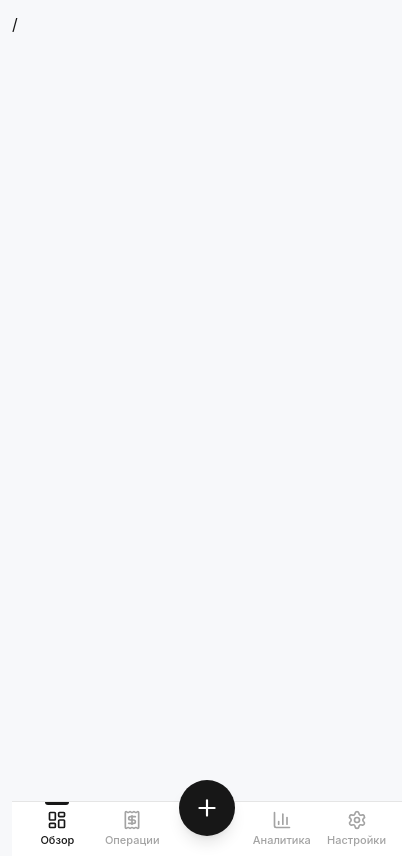
Test: tab switches › lights the touched tab up on pointer-down, before the page has changed
Press the mouse on the link "Настройки" at (357, 828), box [327,810,386,846]
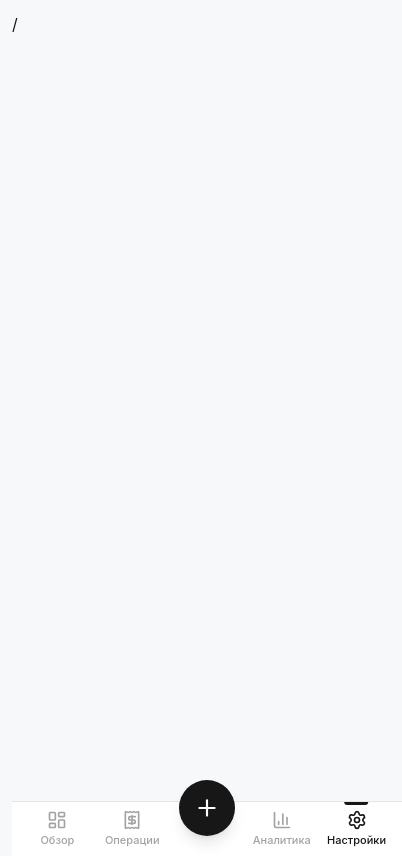
Click the link "Настройки" at (357, 828), box [327,810,386,846]
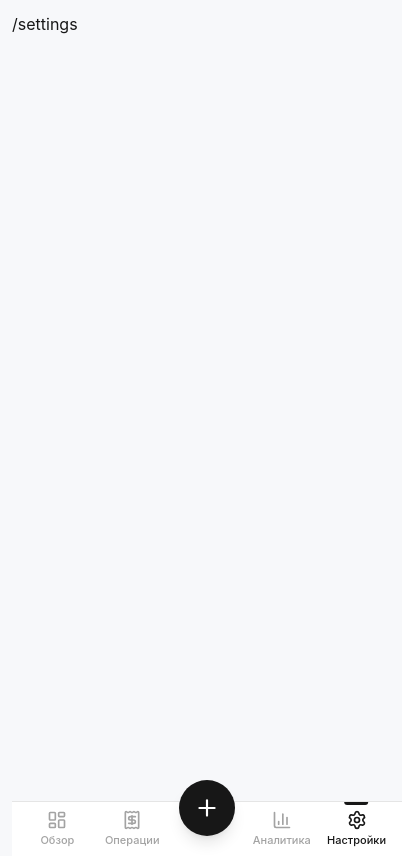
Check: the text with test id "where" reads "/settings", box [12,14,78,34]
